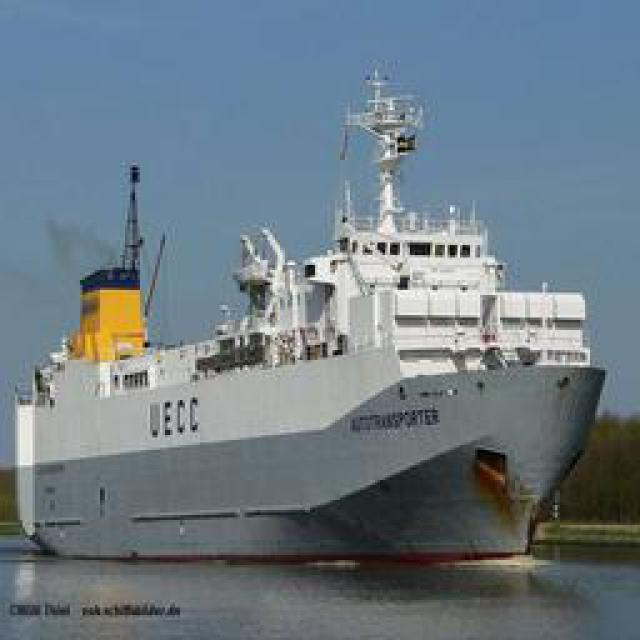Ship: (20, 50, 618, 573)
